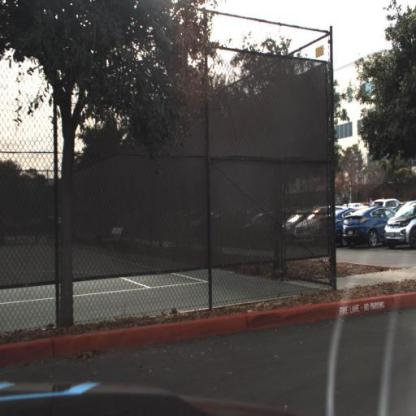car: (344, 206, 388, 251), (316, 205, 362, 247), (384, 199, 416, 255), (293, 207, 332, 244), (316, 206, 346, 250)
